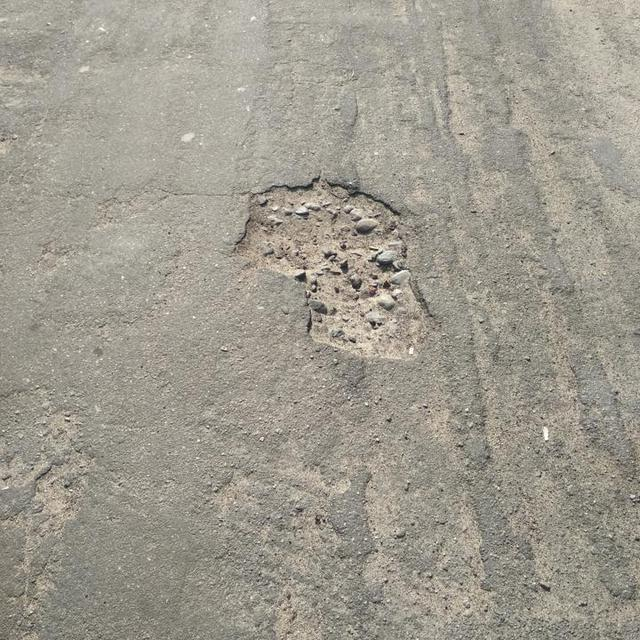Pothole: (228, 172, 438, 367)
